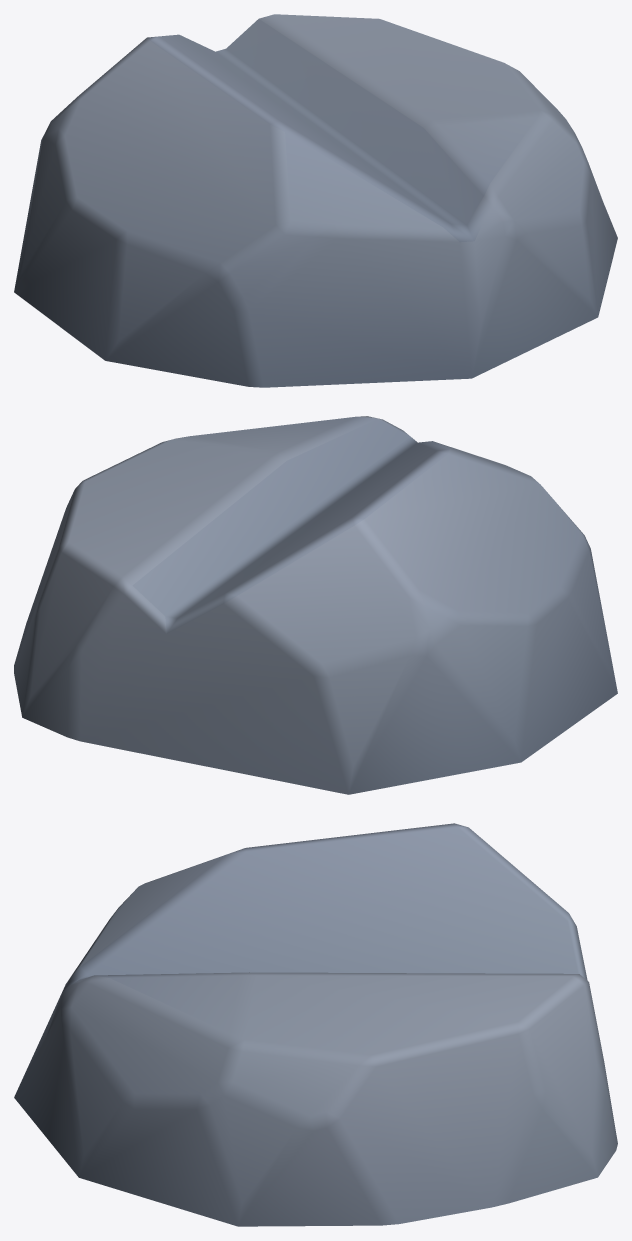
Rendered from Stone_03_lvl.fbx.
3 renders of one model, top to bottom at view 1: azimuth 30°, elevation 25°; view 2: azimuth 150°, elevation 25°; view 3: azimuth 270°, elevation 25°, orthographic. The views are drawn at different scales.
Visible parts, largest first — view 1: Icosphere.018; view 2: Icosphere.018; view 3: Icosphere.018.
Boxes of the visible parts, x1,y1,x2,y2 form: Icosphere.018: (14,14,617,387); Icosphere.018: (14,416,617,794); Icosphere.018: (14,823,617,1226).
Bounding box in the file's own units: 127 × 50.02 × 125.
